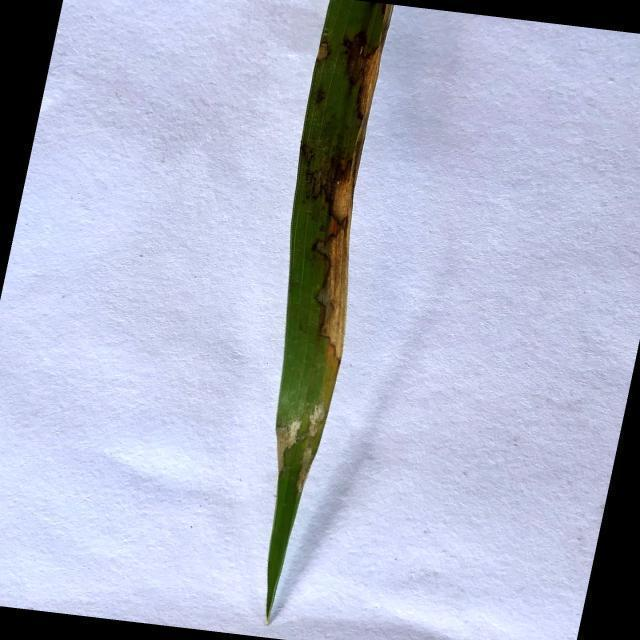Bacterial_Leaf_Blight: (314, 151, 367, 365), (274, 398, 327, 466), (355, 27, 389, 124), (315, 38, 332, 62)
